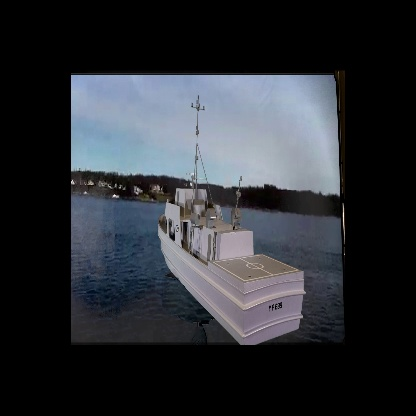YP689: (157, 95, 305, 345)
